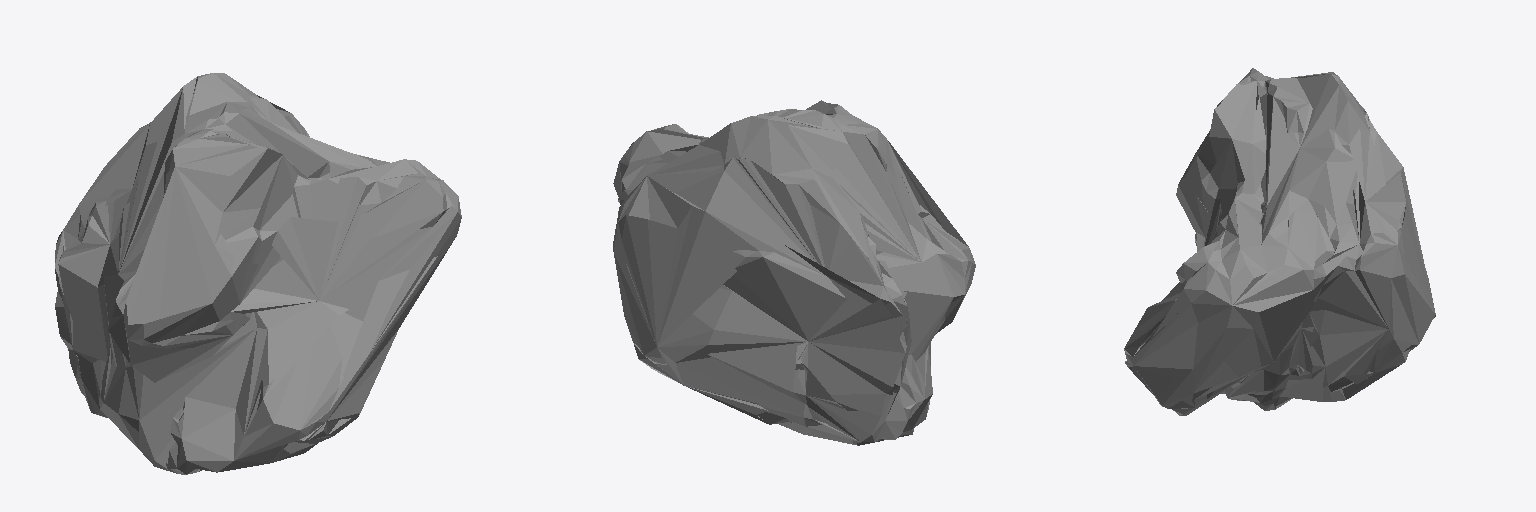
Rendered from rock.obj.
3 views of the same model, side by side, from view 1: azimuth 30°, elevation 25°; view 2: azimuth 150°, elevation 25°; view 3: azimuth 270°, elevation 25° (orthographic).
Parts seen in each view (by area): view 1: g_Group2384_meshId0_name; view 2: g_Group2384_meshId0_name; view 3: g_Group2384_meshId0_name.
Boxes of the visible parts, x1,y1,x2,y2 form: g_Group2384_meshId0_name: [55, 73, 461, 474]; g_Group2384_meshId0_name: [613, 100, 975, 445]; g_Group2384_meshId0_name: [1124, 68, 1435, 415].
Bounding box in the file's own units: 2 × 1.85 × 1.57.